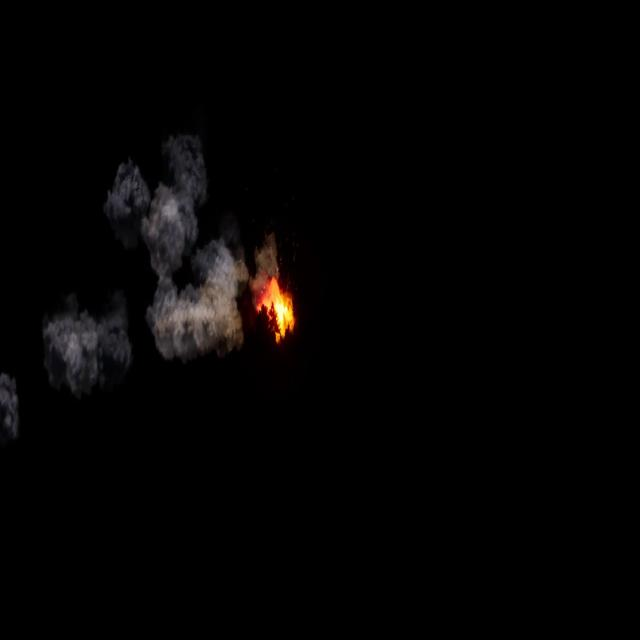fire: (256, 268, 295, 344)
smoke: (39, 110, 272, 382)
